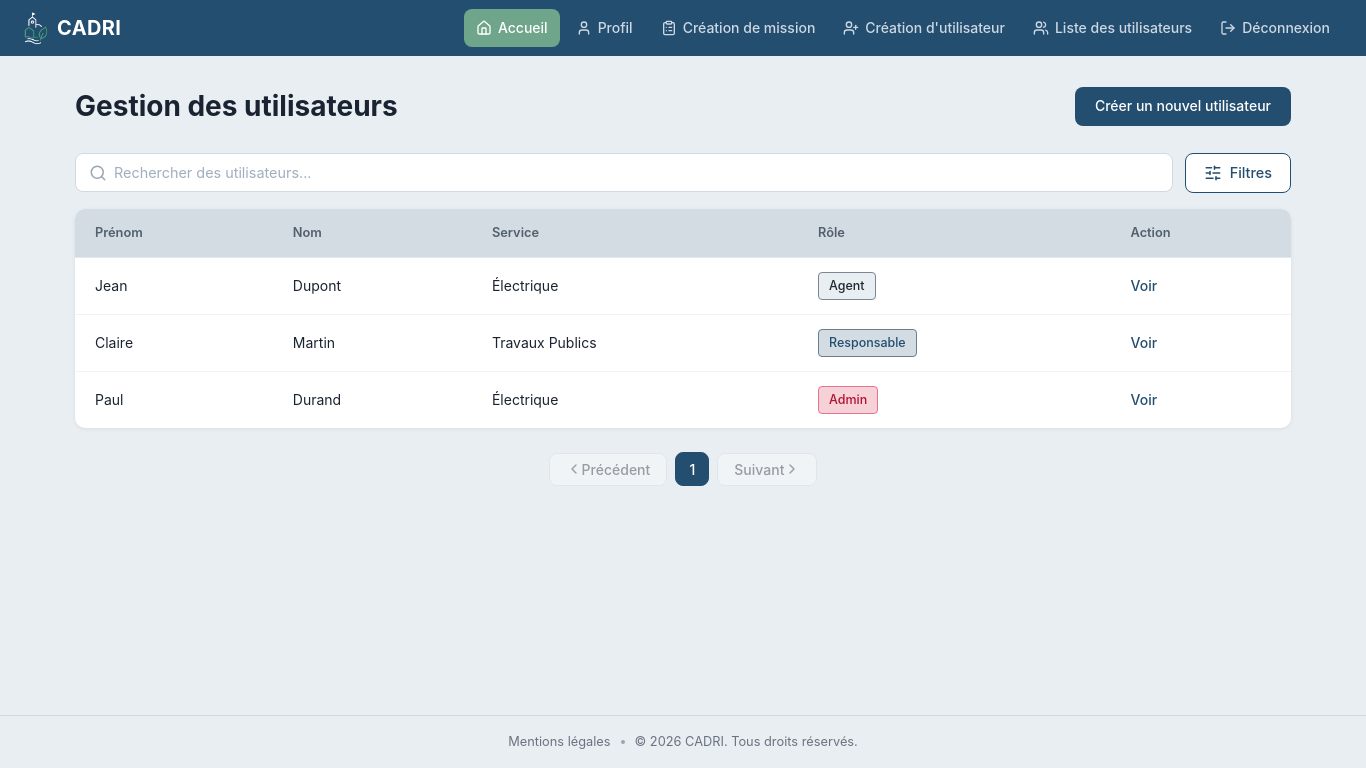
UserManagementPage — filtres › filtrer par rôle "Agent" masque les autres rôles
Expected: the text "Claire" is shown, [75,315,273,372]
Click the button "Filtres". click: (1238, 173)
box: [1185,153,1291,193]
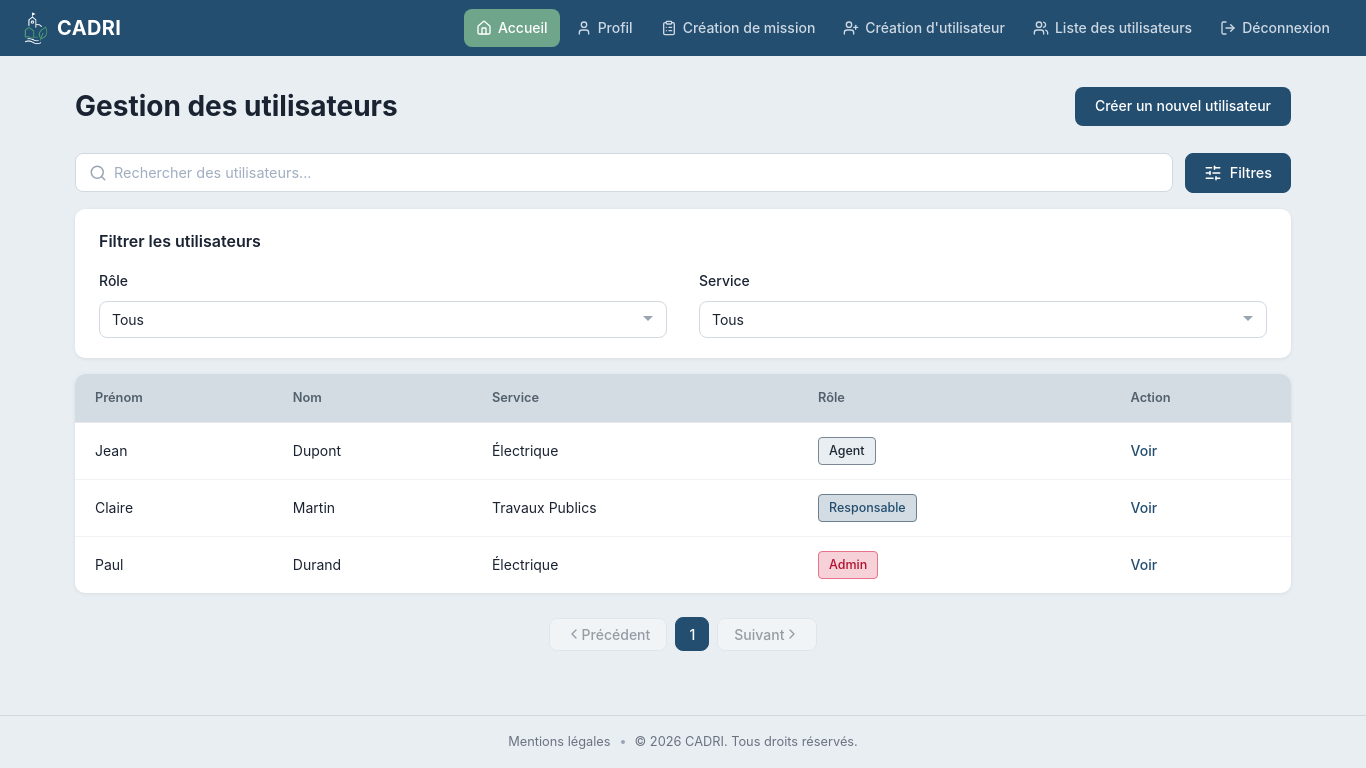
Select "Agent" in the dropdown labelled "Rôle". click: (383, 319)
box: [99,301,667,338]
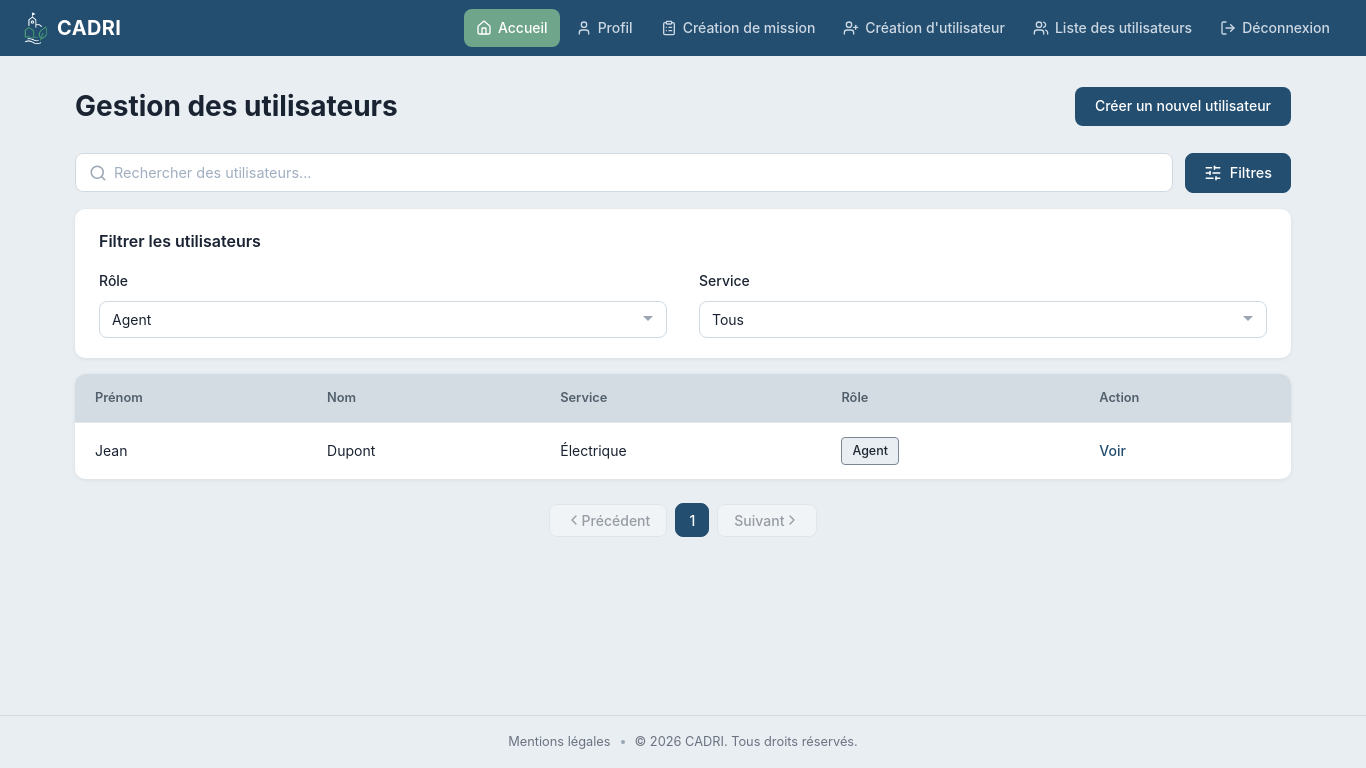
Expected: the text "Jean" is shown, [75,423,307,479]
Now the text "Claire" is gone
